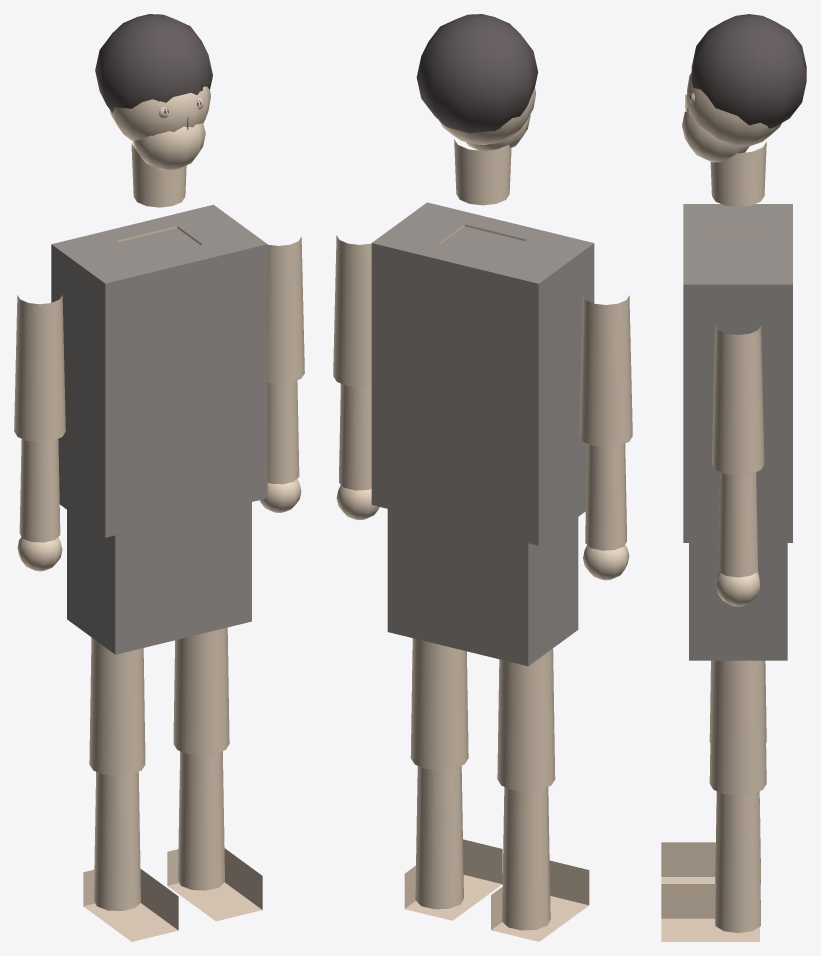
File: body.glb
The picture shows the model from 3 angles, left to right: view 1: azimuth 30°, elevation 25°; view 2: azimuth 150°, elevation 25°; view 3: azimuth 270°, elevation 25°; orthographic projection. The views are drawn at different scales.
Visible parts, largest first — view 1: Cloth, Skin, Hair; view 2: Cloth, Skin, Hair; view 3: Skin, Cloth, Hair.
Boxes of the visible parts, x1,y1,x2,y2 form: Cloth: (51, 204, 267, 654); Skin: (14, 86, 304, 941); Hair: (95, 14, 212, 112); Cloth: (371, 202, 594, 666); Skin: (333, 87, 632, 941); Hair: (416, 14, 537, 133); Skin: (661, 72, 781, 941); Cloth: (683, 204, 792, 660); Hair: (691, 14, 806, 128).
Bounding box in the file's own units: 0.6078 × 1.79 × 0.2646.
